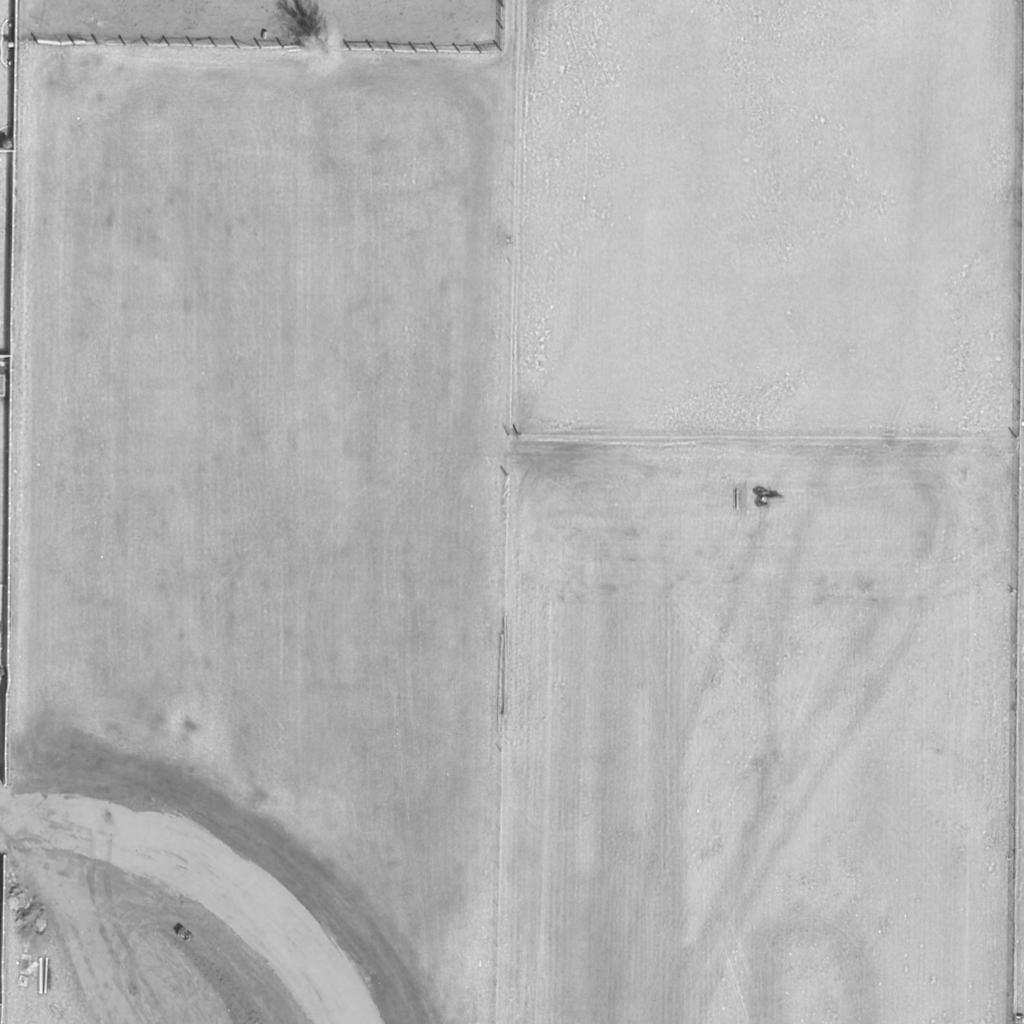vehicle: (756, 487, 786, 513)
